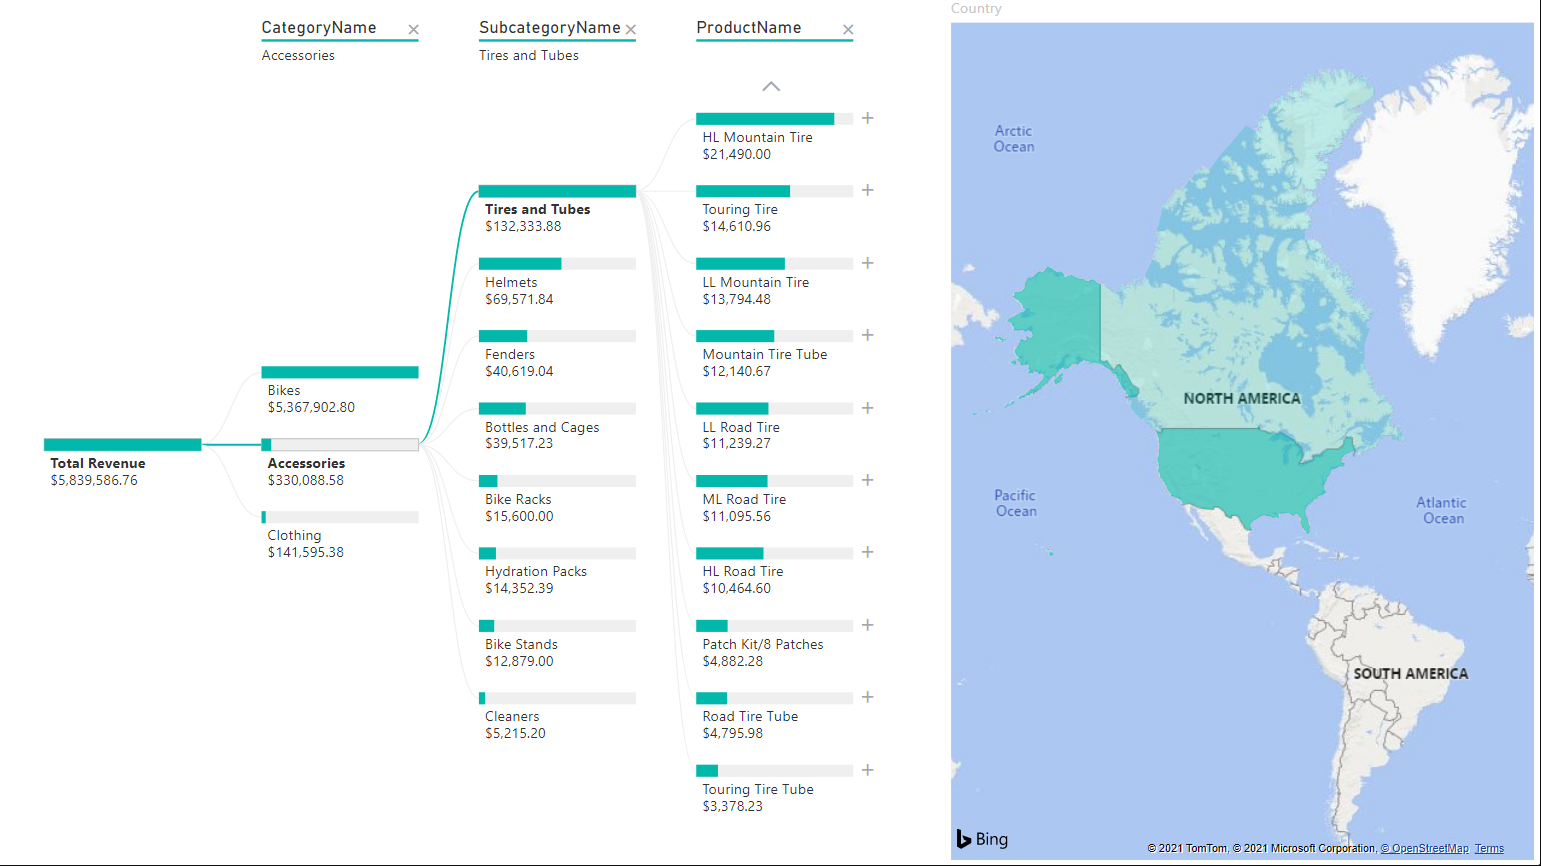

What the dashboard file says about the page in this screenshot:
{"tool":"powerbi","page":{"name":"Decomposition Tree","canvas":[1280,720],"ordinal":3},"visuals":[{"type":"decompositionTreeVisual","fields":{"Analyze":["AW_Sales.Total Revenue"],"ExplainBy":["AW_Product_Category_Lookup.CategoryName","AW_Product_Subcategory_Lookup.SubcategoryName","AW_Product_Lookup.ProductName","AW_Territories_Lookup.Country"]},"box":[9.9,0,776.7,719.8],"z":0},{"type":"filledMap","fields":{"Category":["AW_Territories_Lookup.Country"]},"box":[786.6,0,493.4,719.8],"z":1}]}

Visuals, with their boxes in screenshot pixels (x1, y1, x2, y2), scaled from the page's 1280x720 canvas onto the 1541x866 screenshot:
decompositionTreeVisual - AW_Sales.Total Revenue x AW_Product_Category_Lookup.CategoryName: 12/0/947/865
filledMap - AW_Territories_Lookup.Country: 947/0/1540/865
